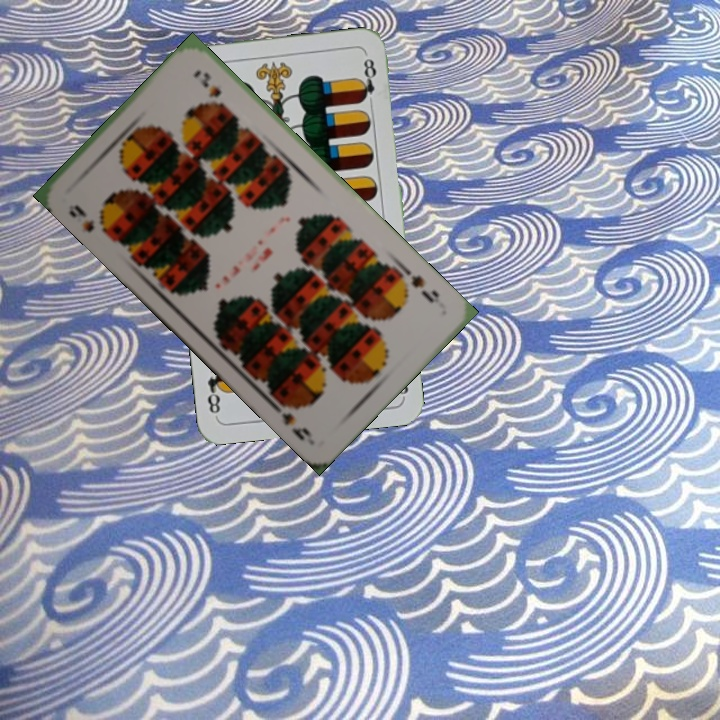S9: (64, 200, 113, 239), (407, 271, 442, 306)
